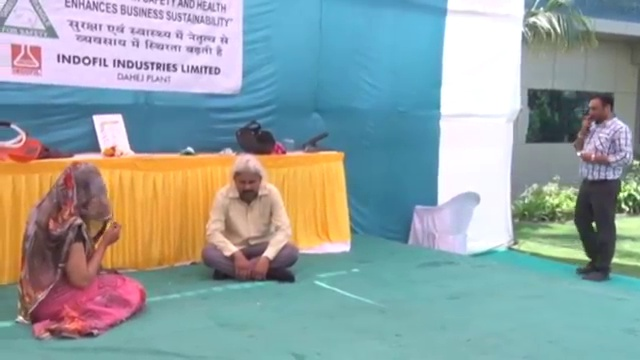helmet_off: (60, 161, 105, 204), (231, 155, 262, 203), (585, 93, 615, 123)
person: (16, 160, 146, 340), (199, 153, 299, 283), (572, 92, 633, 282)
